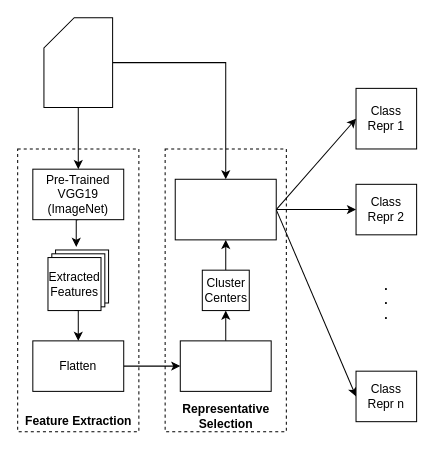
Image size: 434x449. Some labels were removed from this diagram. Here are the shapes that lost their labels. From the top down, the centre of each, then its label:
At point 78,62: "Class-scoped Training Data".
At point 225,209: "Closest-to-Center Image (Pairwise Euclidean)".
At point 225,365: "KMeans Clustering".
